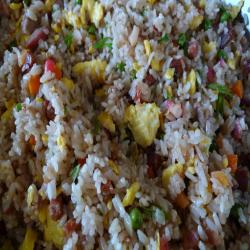rice: (17, 18, 215, 223)
